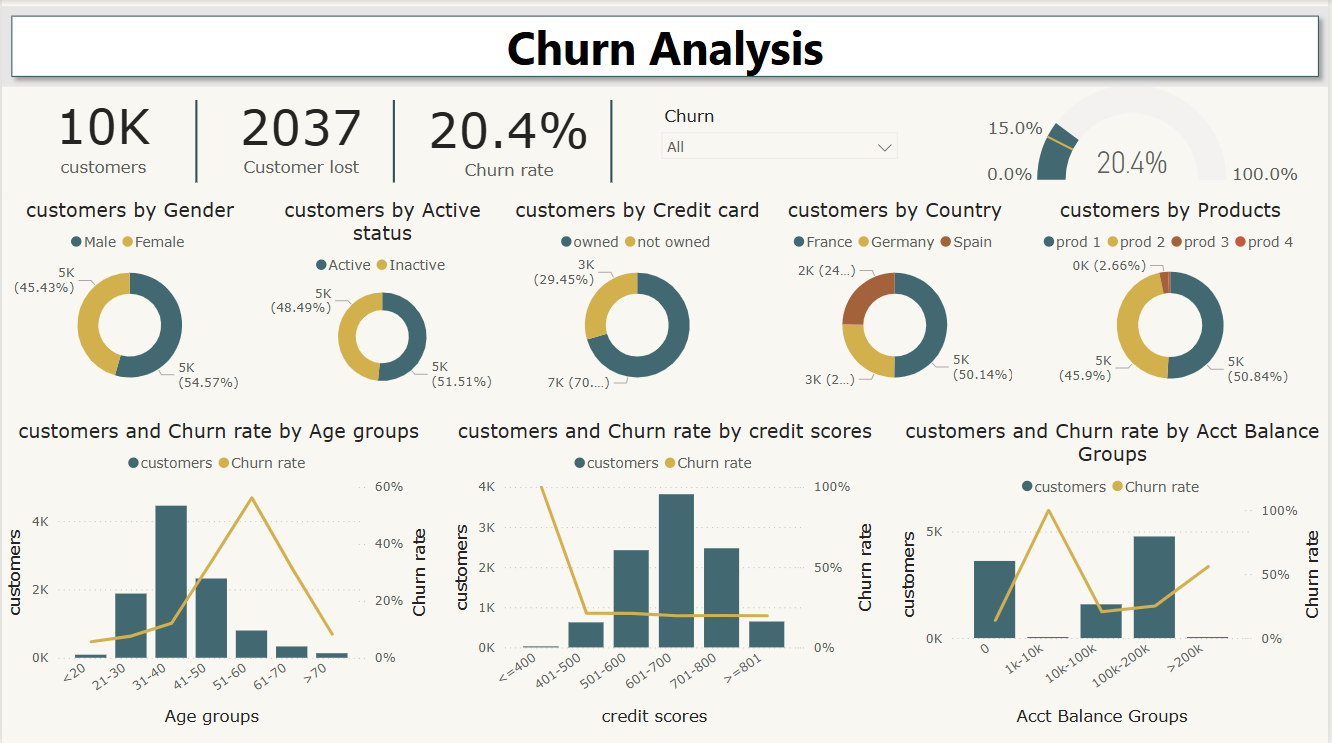

The dashboard page shown, as its layout file describes it:
{"tool":"powerbi","page":{"name":"Page 1","canvas":[1280,720],"ordinal":0},"visuals":[{"type":"card","fields":{"Values":["Bank Customer Churn Prediction.Customers"]},"box":[0,79.5,195.7,100.3],"z":0},{"type":"donutChart","fields":{"Y":["Bank Customer Churn Prediction.Total customers"],"Category":["Bank Customer Churn Prediction.Gender"]},"box":[0,190.8,247,194.4],"z":1000},{"type":"card","fields":{"Values":["Bank Customer Churn Prediction.Customer lost"]},"box":[199.3,77,179.8,106.4],"z":2000},{"type":"card","fields":{"Values":["Bank Customer Churn Prediction.Churn rate"]},"box":[379.1,83.2,221.3,100.3],"z":3000},{"type":"donutChart","fields":{"Y":["Bank Customer Churn Prediction.Total customers"],"Category":["Bank Customer Churn Prediction.Active status"]},"box":[243.3,190.8,247,194.4],"z":4000},{"type":"donutChart","fields":{"Y":["Bank Customer Churn Prediction.Total customers"],"Category":["Bank Customer Churn Prediction.Credit card"]},"box":[490.4,190.8,247,194.4],"z":5000},{"type":"donutChart","fields":{"Y":["Bank Customer Churn Prediction.Total customers"],"Category":["Bank Customer Churn Prediction.Country"]},"box":[738.6,190.8,247,194.4],"z":6000},{"type":"donutChart","fields":{"Y":["Bank Customer Churn Prediction.Total customers"],"Category":["Bank Customer Churn Prediction.Products"]},"box":[974.6,190.8,305.7,194.4],"z":7000},{"type":"lineStackedColumnComboChart","fields":{"Y":["Bank Customer Churn Prediction.Total customers"],"Y2":["Bank Customer Churn Prediction.Churn rate"],"Category":["Age group Index.Age groups"]},"box":[0,404.8,418.2,300.8],"z":8000},{"type":"lineStackedColumnComboChart","fields":{"Y":["Bank Customer Churn Prediction.Total customers"],"Y2":["Bank Customer Churn Prediction.Churn rate"],"Category":["Credit Scores Index.credit scores"]},"box":[430.4,404.8,418.2,300.8],"z":9000},{"type":"lineStackedColumnComboChart","fields":{"Y":["Bank Customer Churn Prediction.Total customers"],"Y2":["Bank Customer Churn Prediction.Churn rate"],"Category":["Acct Balance Index.Acct Balance Groups"]},"box":[862.1,404.8,418.2,300.8],"z":10000},{"type":"slicer","fields":{"Values":["Bank Customer Churn Prediction.Churn"]},"box":[626.1,96.6,248.2,73.4],"z":11000},{"type":"gauge","fields":{"Y":["Bank Customer Churn Prediction.Churn rate"],"MinValue":["Min(Bank Customer Churn Prediction.Min churn rate)"],"MaxValue":["Max(Bank Customer Churn Prediction.Max churn rate)"],"TargetValue":["Max(Bank Customer Churn Prediction.Target churn rate)"]},"box":[922,77,358.3,106.4],"z":12000},{"type":"shape","box":[0,6,1280,77.2],"z":13000},{"type":"shape","box":[176.1,96.5,22.9,79.6],"z":13001},{"type":"shape","box":[366.8,96.5,22.9,79.6],"z":13002},{"type":"shape","box":[576.7,96.5,22.9,79.6],"z":13003}]}

Visuals, with their boxes in screenshot pixels (x1, y1, x2, y2), scaled from the page's 1280x720 canvas onto the 1332x743 screenshot:
card - Bank Customer Churn Prediction.Customers: [0,82,204,186]
donutChart - Bank Customer Churn Prediction.Total customers x Bank Customer Churn Prediction.Gender: [0,197,257,398]
card - Bank Customer Churn Prediction.Customer lost: [207,79,395,189]
card - Bank Customer Churn Prediction.Churn rate: [395,86,625,189]
donutChart - Bank Customer Churn Prediction.Total customers x Bank Customer Churn Prediction.Active status: [253,197,510,398]
donutChart - Bank Customer Churn Prediction.Total customers x Bank Customer Churn Prediction.Credit card: [510,197,767,398]
donutChart - Bank Customer Churn Prediction.Total customers x Bank Customer Churn Prediction.Country: [769,197,1026,398]
donutChart - Bank Customer Churn Prediction.Total customers x Bank Customer Churn Prediction.Products: [1014,197,1331,398]
lineStackedColumnComboChart - Bank Customer Churn Prediction.Total customers x Bank Customer Churn Prediction.Churn rate: [0,418,435,728]
lineStackedColumnComboChart - Bank Customer Churn Prediction.Total customers x Bank Customer Churn Prediction.Churn rate: [448,418,883,728]
lineStackedColumnComboChart - Bank Customer Churn Prediction.Total customers x Bank Customer Churn Prediction.Churn rate: [897,418,1331,728]
slicer - Bank Customer Churn Prediction.Churn: [652,100,910,175]
gauge - Bank Customer Churn Prediction.Churn rate x Min(Bank Customer Churn Prediction.Min churn rate): [959,79,1331,189]
shape: [0,6,1331,86]
shape: [183,100,207,182]
shape: [382,100,406,182]
shape: [600,100,624,182]
